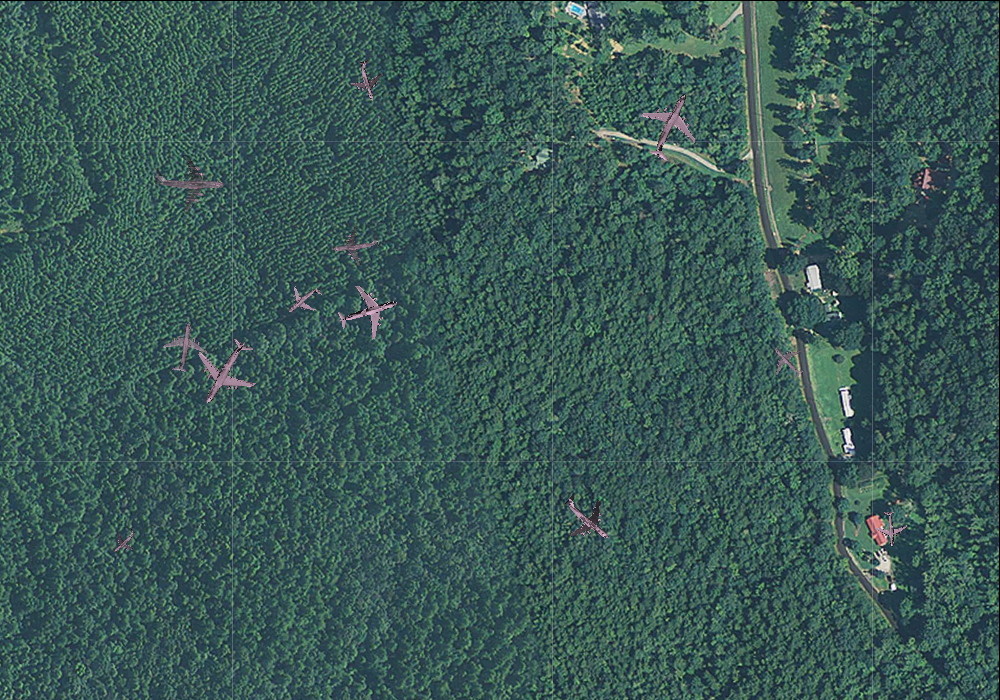plane: (178, 324, 272, 420), (625, 79, 716, 172), (548, 479, 627, 557), (330, 275, 405, 347), (152, 147, 225, 215), (156, 318, 211, 375), (277, 274, 330, 326), (762, 335, 814, 387), (330, 220, 381, 269), (343, 54, 392, 105), (103, 521, 143, 561), (873, 510, 908, 547)
